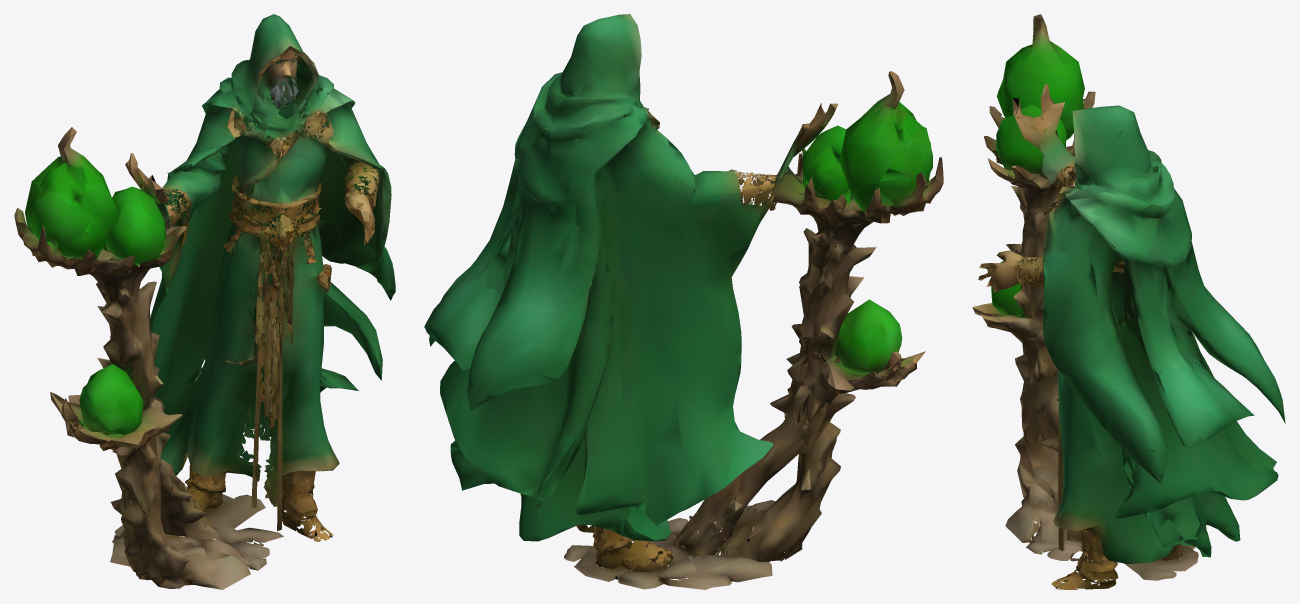
Rendered from fig_blight_weaver.glb.
The picture shows the model from 3 angles, left to right: view 1: azimuth 30°, elevation 25°; view 2: azimuth 150°, elevation 25°; view 3: azimuth 270°, elevation 25°; orthographic projection. The views are drawn at different scales.
Parts seen in each view (by area): view 1: fig_blight_weaver; view 2: fig_blight_weaver; view 3: fig_blight_weaver.
Part boxes in pixels (x1=…): fig_blight_weaver: x1=14, y1=14, x2=395, y2=589; fig_blight_weaver: x1=424, y1=14, x2=943, y2=589; fig_blight_weaver: x1=972, y1=14, x2=1285, y2=589.
Size of the model in its own units: 0.8164 by 0.9122 by 0.5507.
Materials: 1 (1 with a texture image).
